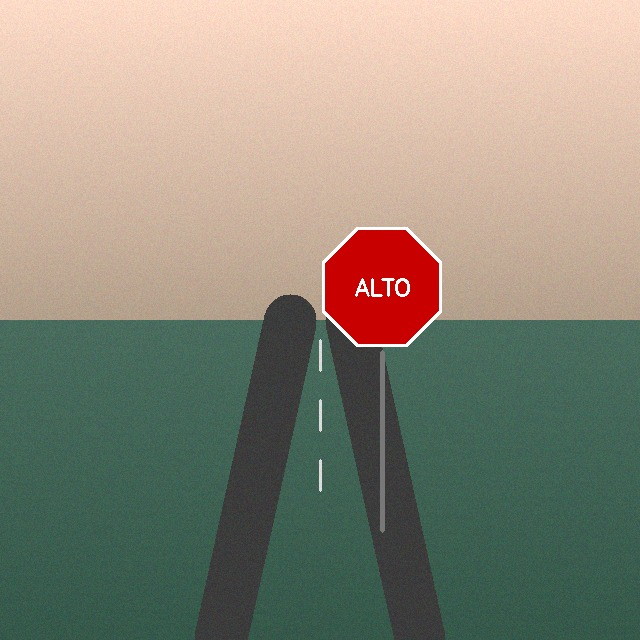alto: (317, 222, 447, 352)
